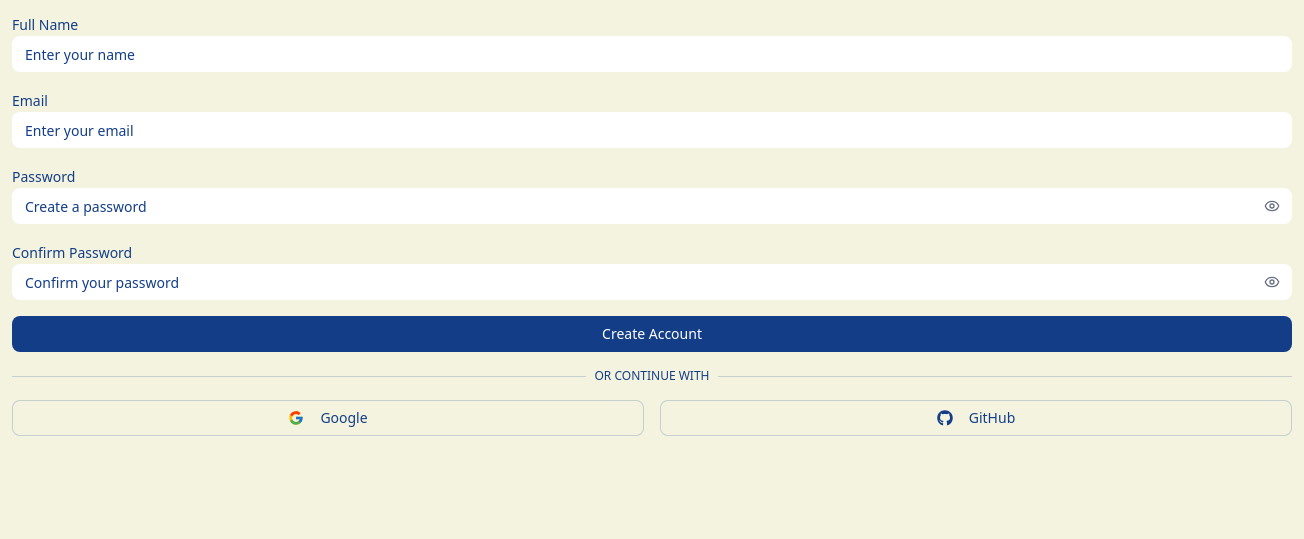
Test: SignupForm Component › form submit handles rate limit error (429) and shows resend button
Type "John Doe" into the field with placeholder "Enter your name".
click(652, 54); type("John Doe")  # box left=12, top=36, right=1292, bottom=72
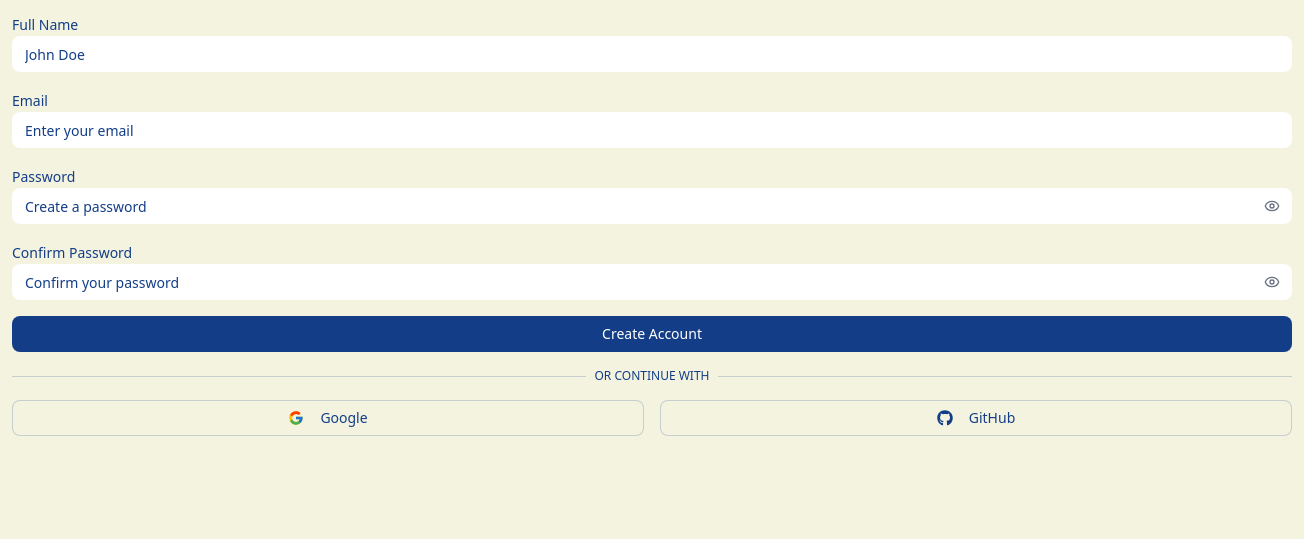
Type "test@example.com" into the field with placeholder "Enter your email".
click(652, 130); type("test@example.com")  # box left=12, top=112, right=1292, bottom=148
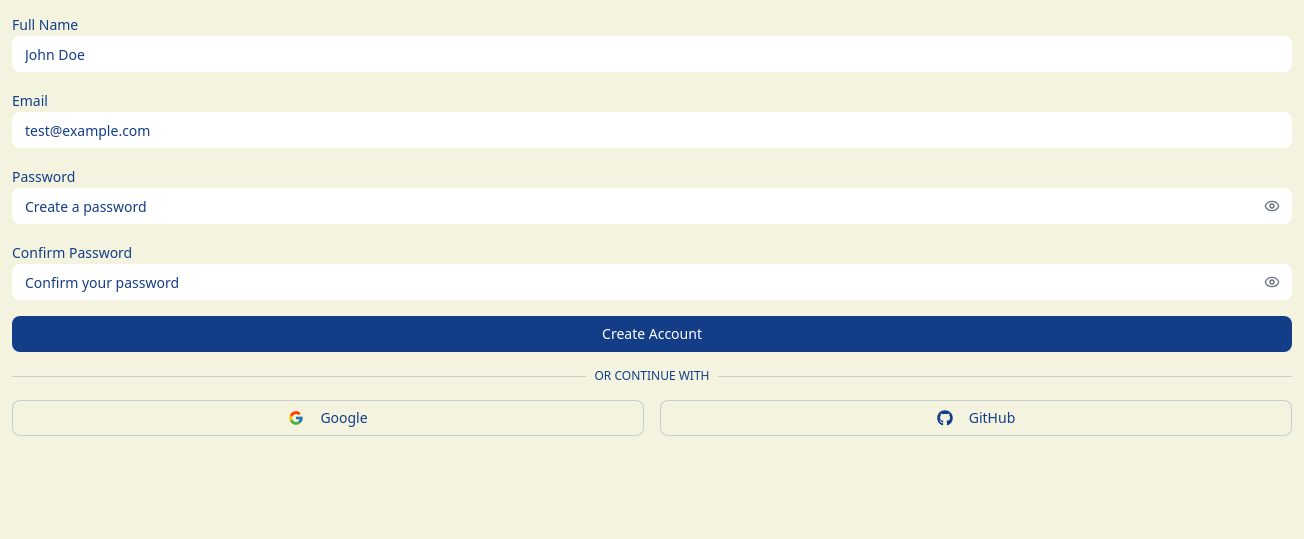
Type "password123" into the password field with placeholder "Create a password".
click(652, 206); type("password123")  # box left=12, top=188, right=1292, bottom=224
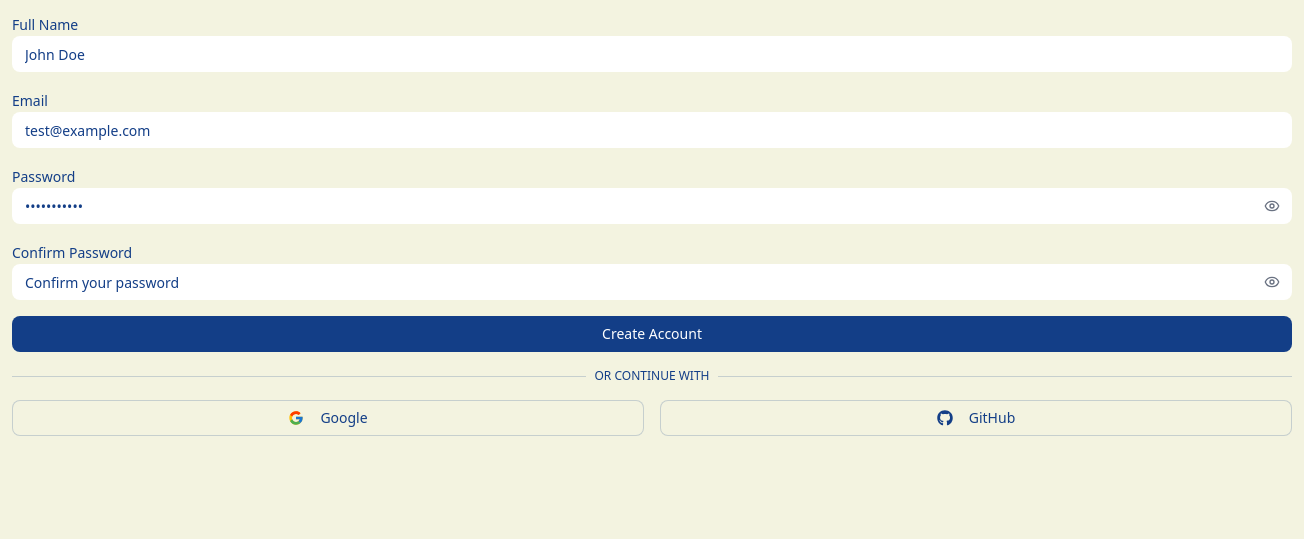
Type "password123" into the password field with placeholder "Confirm your password".
click(652, 282); type("password123")  # box left=12, top=264, right=1292, bottom=300
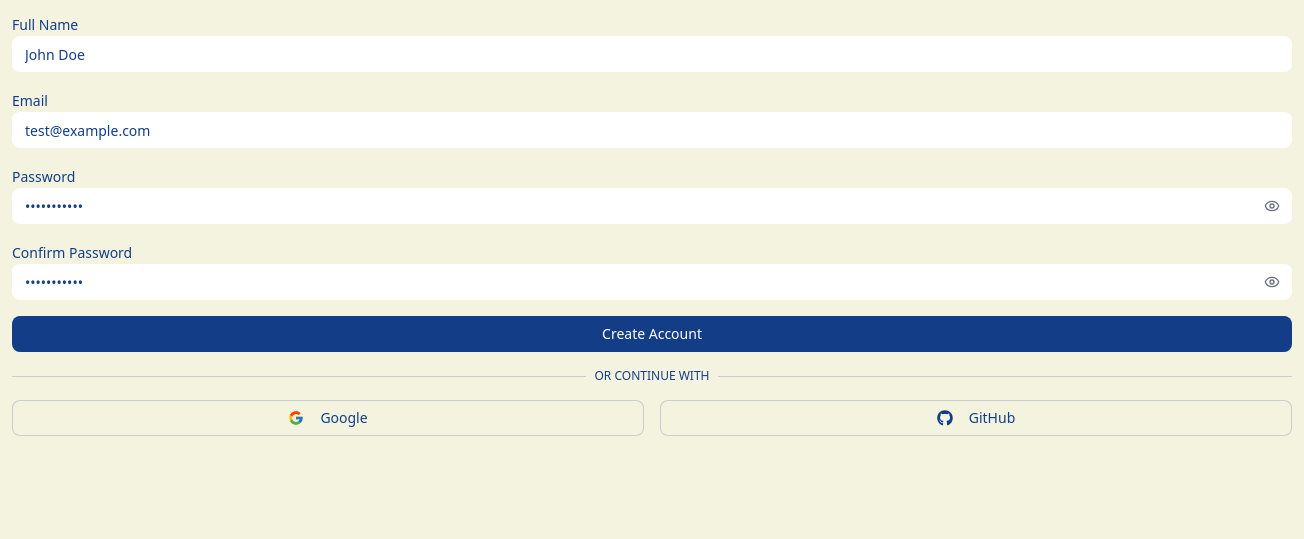
Click the button "Create Account".
click(652, 334)  # box left=12, top=316, right=1292, bottom=352
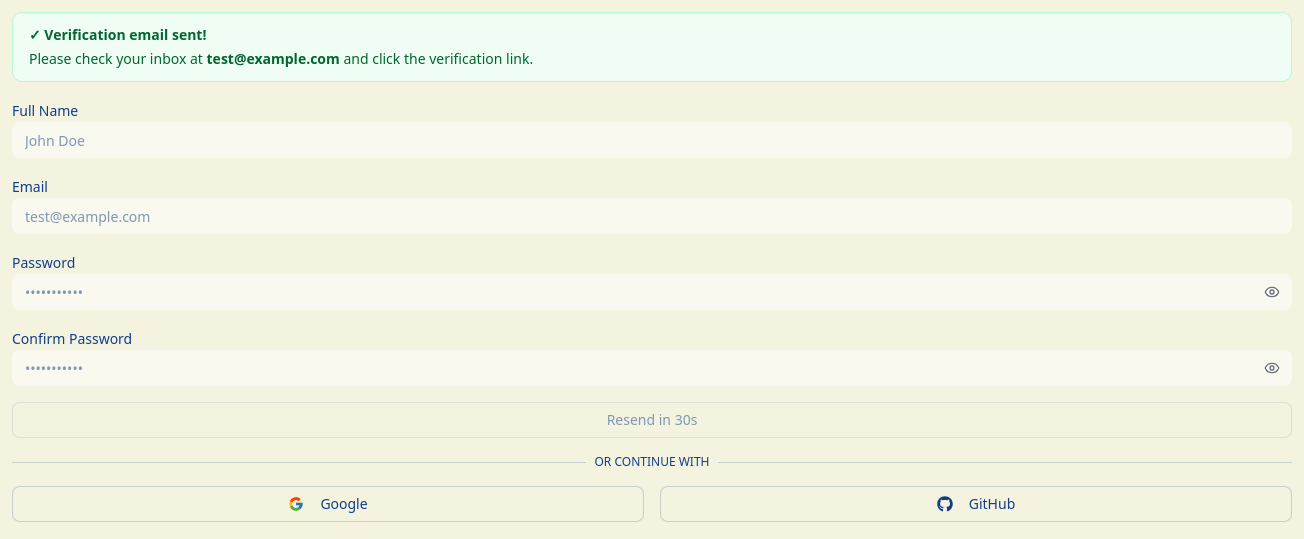
Now the text "✓ Verification email sent!" is shown, box left=29, top=25, right=206, bottom=44
